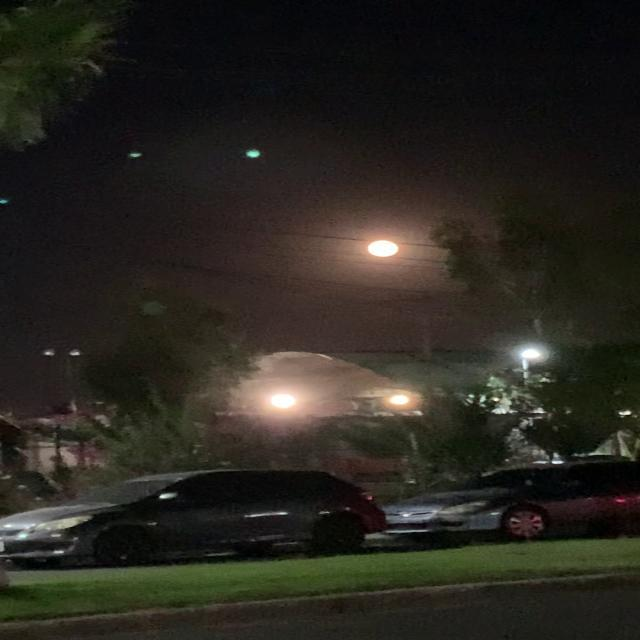moon: (361, 242, 414, 268)
